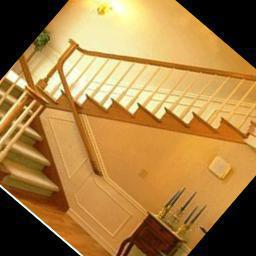Escaleras: (38, 0, 256, 210), (0, 52, 113, 209)
